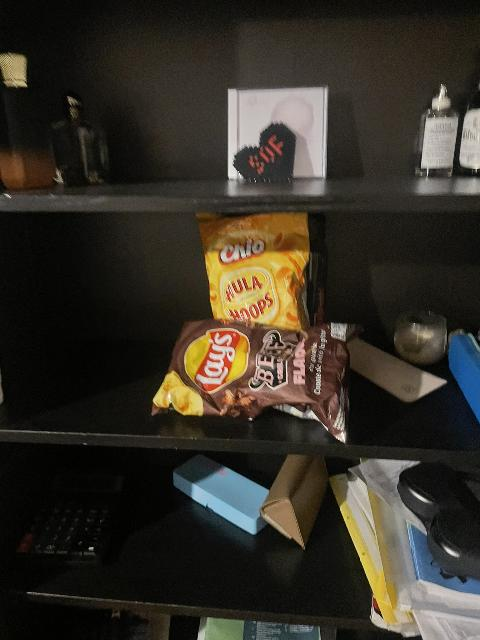Chio Hula Hoops Cheese 70g: (197, 214, 314, 332)
Lays Beef Grilled Ribs 125g: (155, 318, 354, 434)
